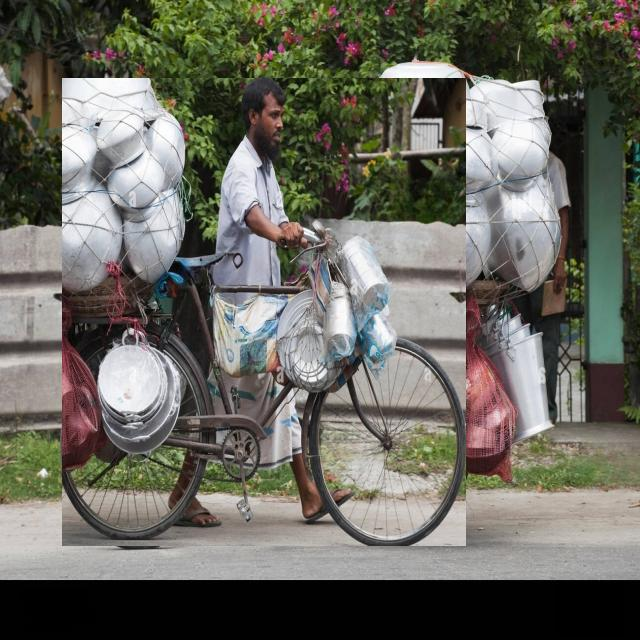bicycle: (62, 78, 465, 546)
